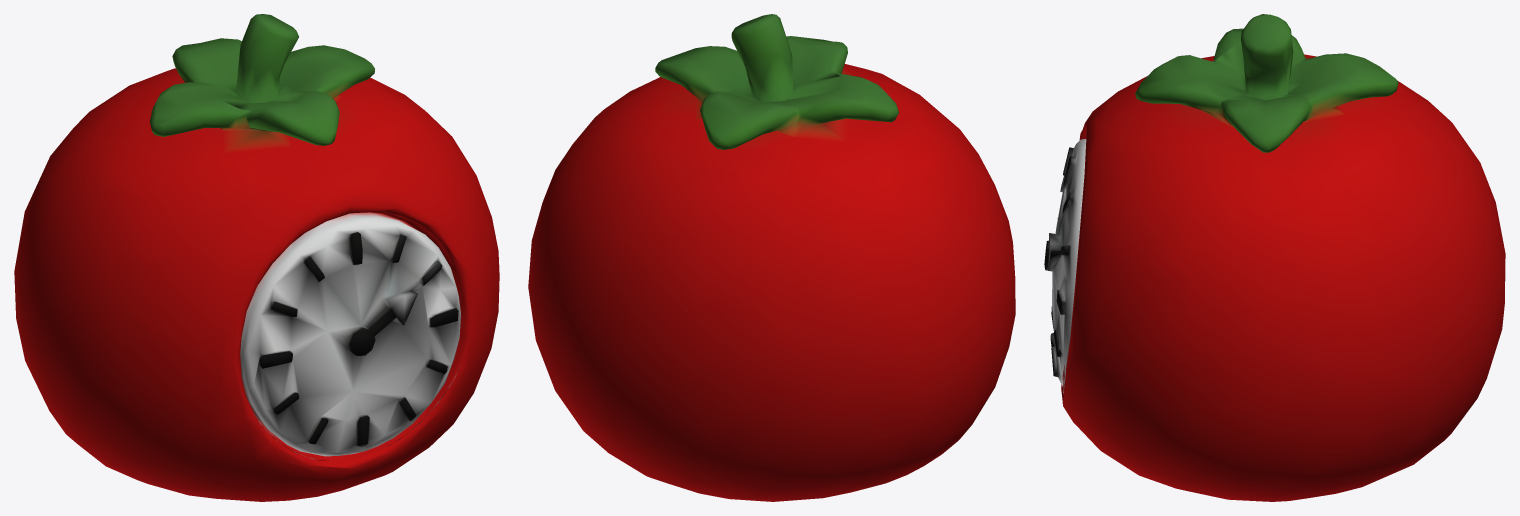
The model's file is meshy-timer.glb.
3 renders of one model, left to right at view 1: azimuth 30°, elevation 25°; view 2: azimuth 150°, elevation 25°; view 3: azimuth 270°, elevation 25°, orthographic.
Visible parts, largest first — view 1: Mesh_0; view 2: Mesh_0; view 3: Mesh_0.
Part boxes in pixels (x1,y1,x2,y2): Mesh_0: [14, 14, 499, 501]; Mesh_0: [528, 14, 1015, 501]; Mesh_0: [1044, 14, 1505, 501].
Bounding box in the file's own units: 1.9 × 1.84 × 1.78.
